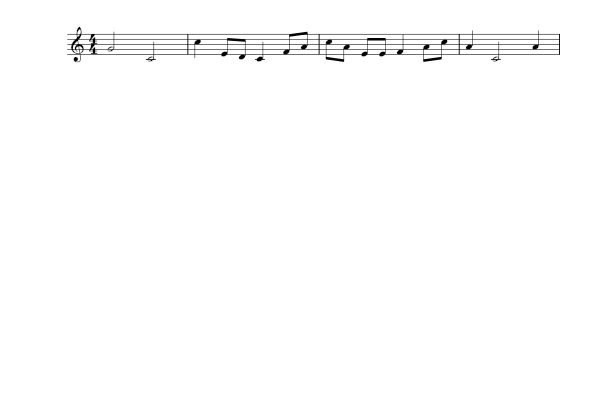Treble Clef: (67, 21, 86, 65)
